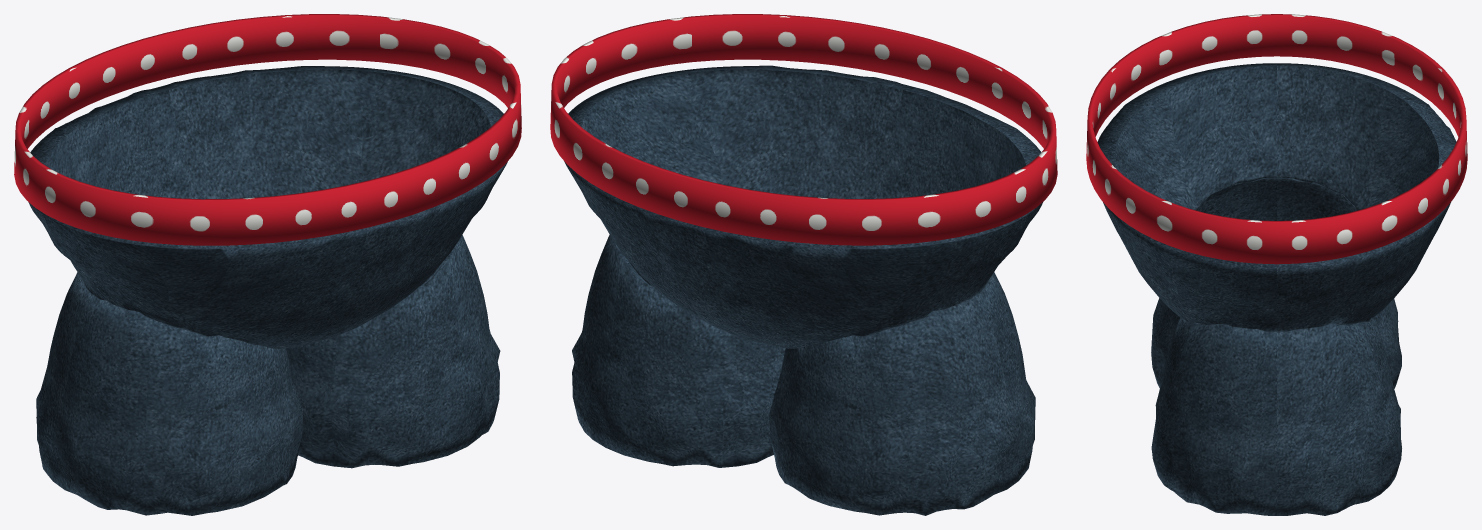
The model's file is baggy2.fbx.
3 renders of one model, left to right at view 1: azimuth 30°, elevation 25°; view 2: azimuth 150°, elevation 25°; view 3: azimuth 270°, elevation 25°, orthographic. The views are drawn at different scales.
Parts seen in each view (by area): view 1: baggy2; view 2: baggy2; view 3: baggy2.
Part boxes in pixels (bbox=[...]): baggy2: bbox=[14, 14, 521, 515]; baggy2: bbox=[550, 14, 1057, 515]; baggy2: bbox=[1086, 14, 1467, 515].
Size of the model in its own units: 0.8281 by 0.5657 by 0.6356.
2 materials, 2 textured.
